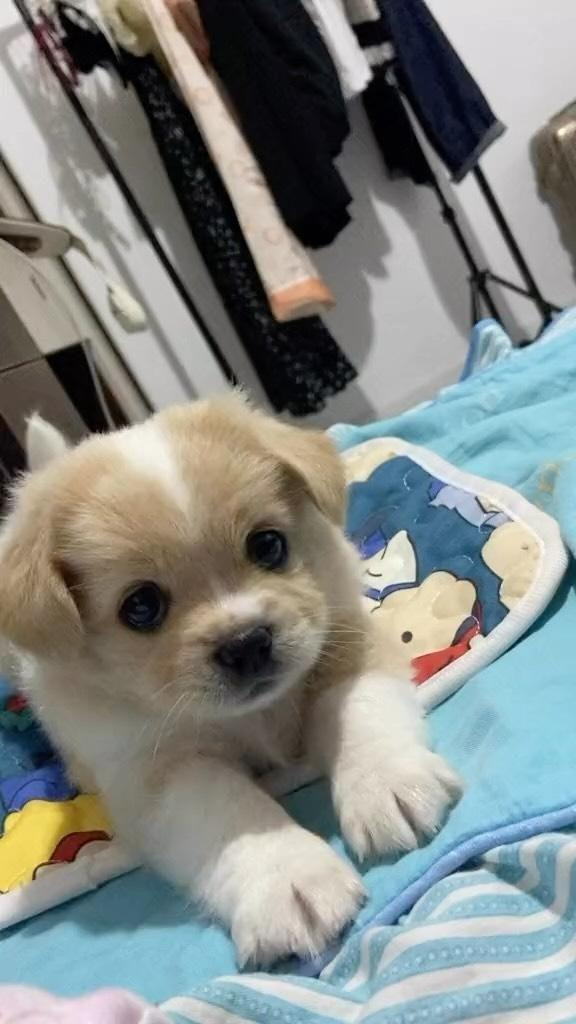puppy-dog: (0, 393, 466, 973)
